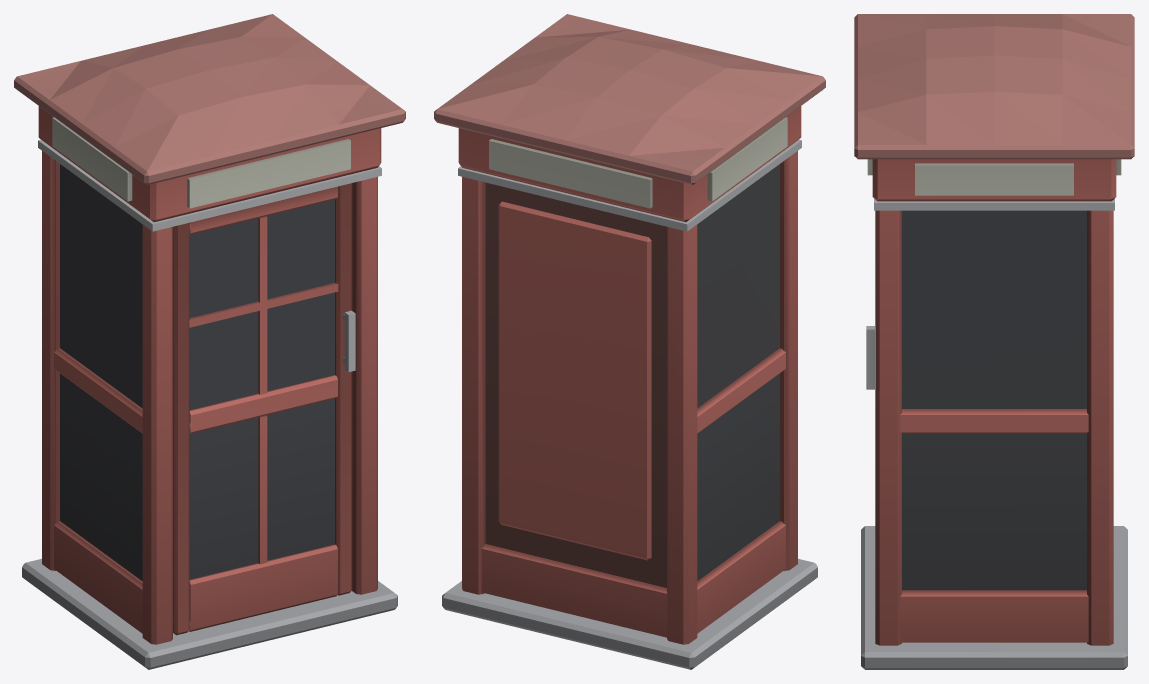
Rendered from phone.glb.
3 views of the same model, side by side, from view 1: azimuth 30°, elevation 25°; view 2: azimuth 150°, elevation 25°; view 3: azimuth 270°, elevation 25° (orthographic). The views are drawn at different scales.
Visible parts, largest first — view 1: phone; view 2: phone; view 3: phone.
Part boxes in pixels (<box>): phone: <box>14,14,405,669</box>; phone: <box>434,14,825,669</box>; phone: <box>854,14,1134,669</box>.
Size of the model in its own units: 1.2 by 2.3 by 1.06.
